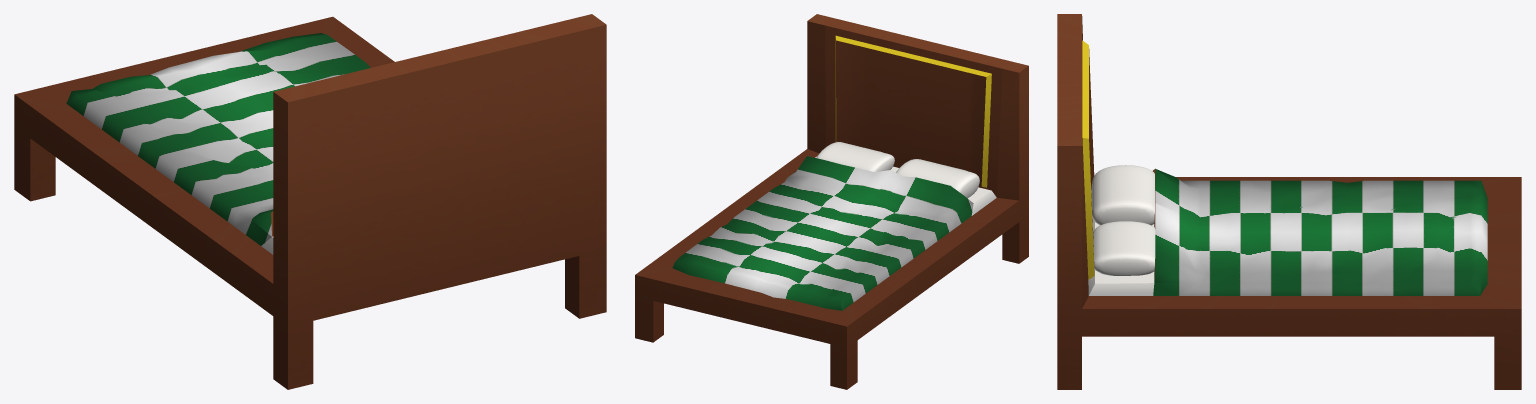
Rendered from bed.fbx.
The picture shows the model from 3 angles, left to right: view 1: azimuth 30°, elevation 25°; view 2: azimuth 150°, elevation 25°; view 3: azimuth 270°, elevation 25°; orthographic projection. The views are drawn at different scales.
Visible parts, largest first — view 1: Bed; view 2: Bed, pillow, pillow1; view 3: Bed, pillow, pillow1.
Part boxes in pixels (bbox=[...]): Bed: bbox=[14, 14, 606, 389]; Bed: bbox=[635, 14, 1028, 389]; pillow: bbox=[896, 159, 979, 198]; pillow1: bbox=[816, 142, 894, 172]; Bed: bbox=[1057, 14, 1521, 389]; pillow: bbox=[1091, 165, 1154, 225]; pillow1: bbox=[1093, 221, 1155, 275].
Bounding box in the file's own units: 52.92 × 45.62 × 78.69.
